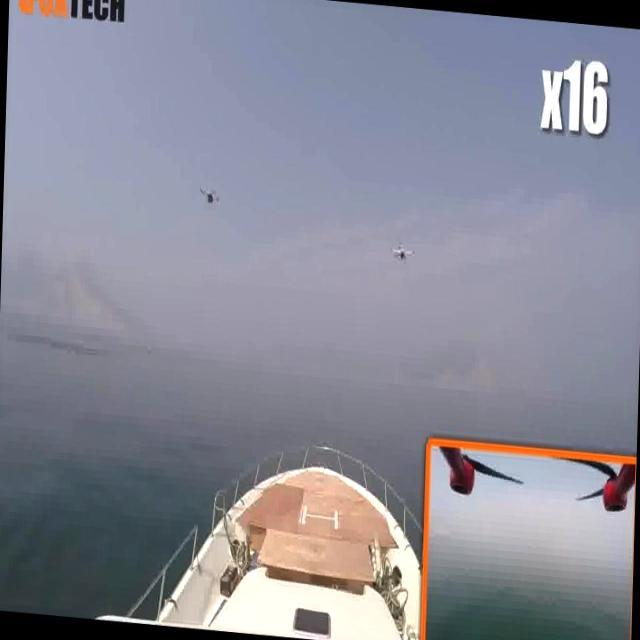drone: (389, 244, 415, 268), (198, 190, 222, 208)
